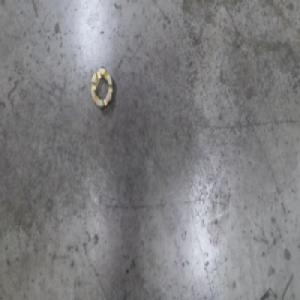Nut: (88, 63, 114, 109)
